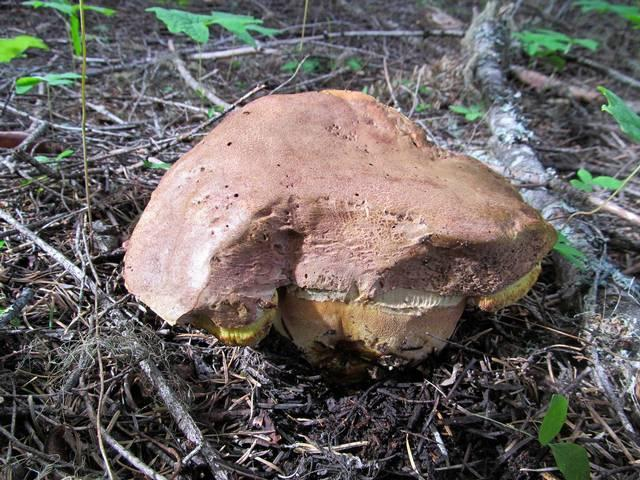edible_mushroom: (120, 87, 558, 384)
